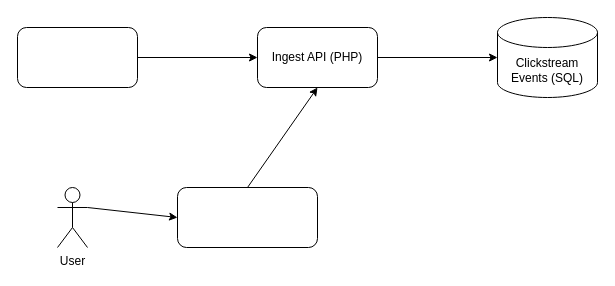
Some shapes in this 615 by 286 pixel diagram are drawn without their labels. Each missing label, with the centre of its shape:
Settings (Preferences): point (247, 217)
Tracker (JS): point (77, 57)
